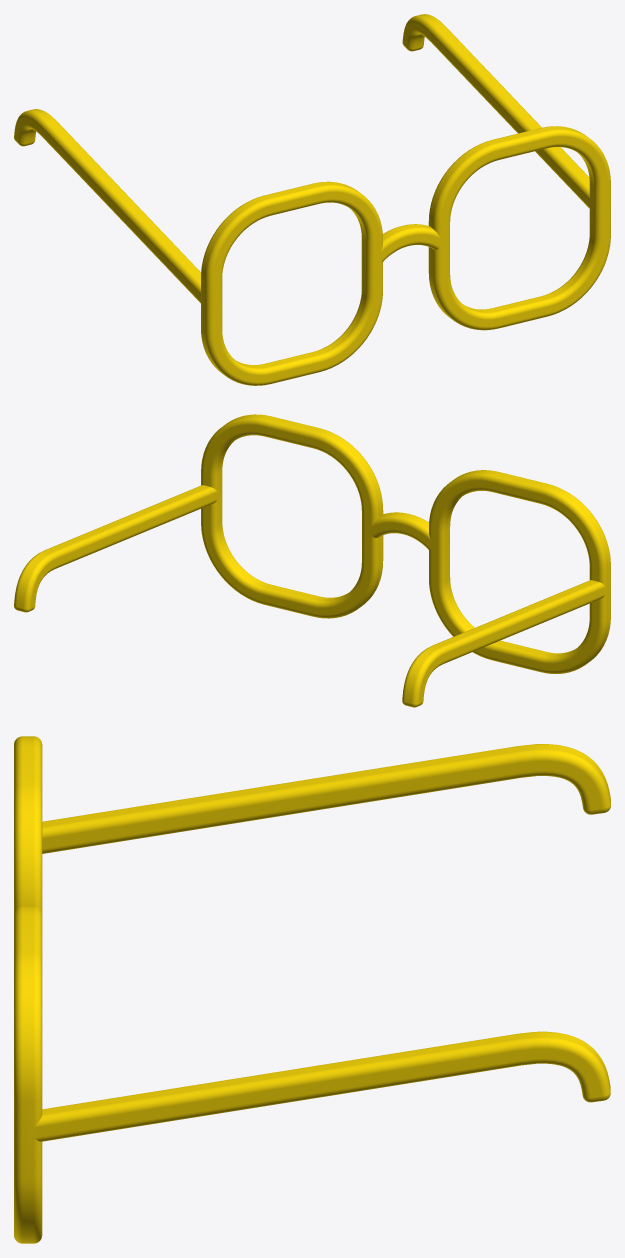
File: glasses2.gltf
3 renders of one model, top to bottom at view 1: azimuth 30°, elevation 25°; view 2: azimuth 150°, elevation 25°; view 3: azimuth 270°, elevation 25°, orthographic. The views are drawn at different scales.
Parts seen in each view (by area): view 1: glas left (×2), Sweep.2 (×2), middle; view 2: glas left (×2), Sweep.2 (×2), middle; view 3: Sweep.2 (×2), glas left (×2).
Part boxes in pixels (left/top/right/bottom): glas left (×2): left=201, top=126, right=610, bottom=385; Sweep.2 (×2): left=14, top=14, right=592, bottom=303; middle: left=376, top=224, right=444, bottom=261; glas left (×2): left=201, top=414, right=610, bottom=673; Sweep.2 (×2): left=14, top=485, right=605, bottom=707; middle: left=367, top=512, right=435, bottom=550; Sweep.2 (×2): left=34, top=744, right=610, bottom=1141; glas left (×2): left=14, top=736, right=42, bottom=1243.
Bounding box in the file's own units: 25.16 × 11 × 21.15.
